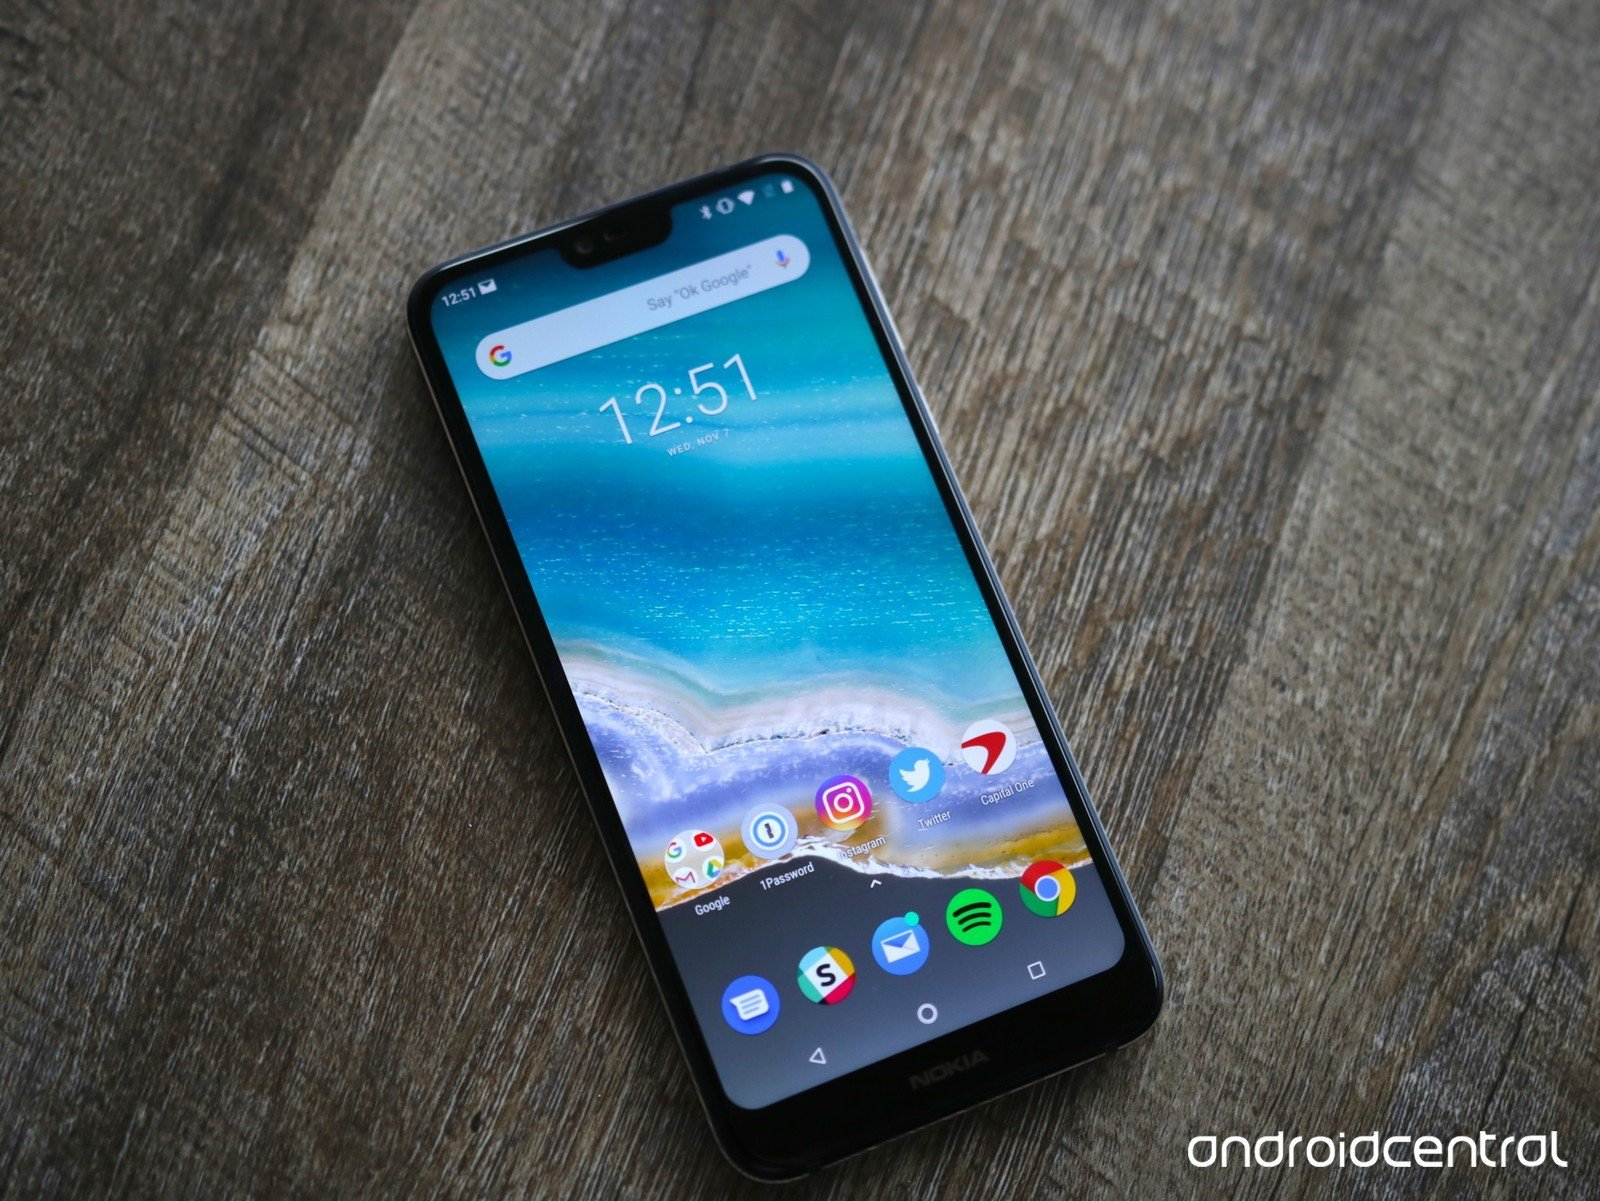phone: (401, 143, 1192, 1177)
